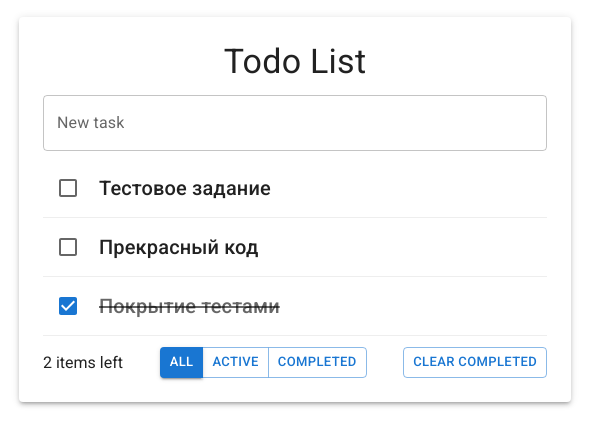
Test: TodoApp › Переключает статус задачи
What coordinates should you click on to do the following:
click the checkbox named "Change state"
I would click on:
 (68, 247)
Its box is [56,235,80,259].
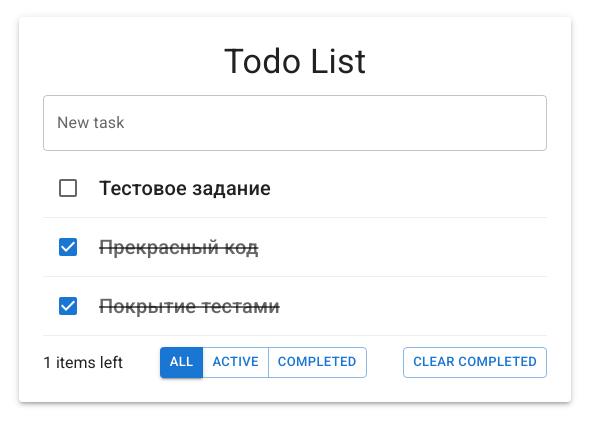
Result: the text "1 items left" is shown at [43,353,123,372]
